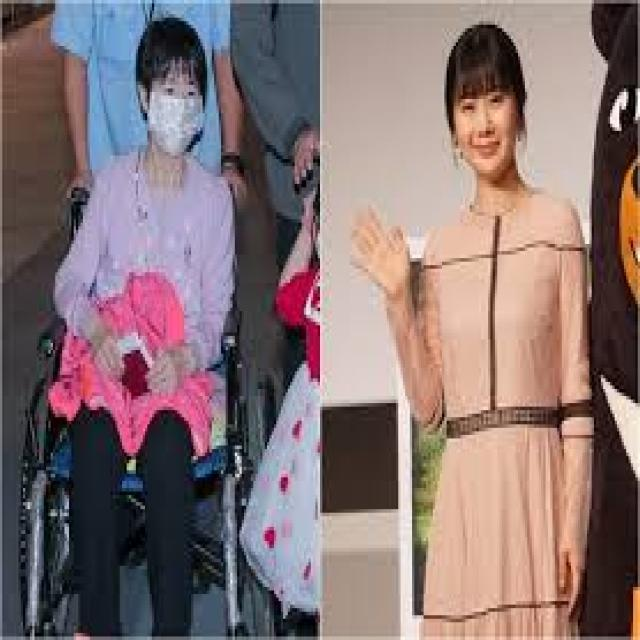wheelchairs: (14, 177, 269, 636)
